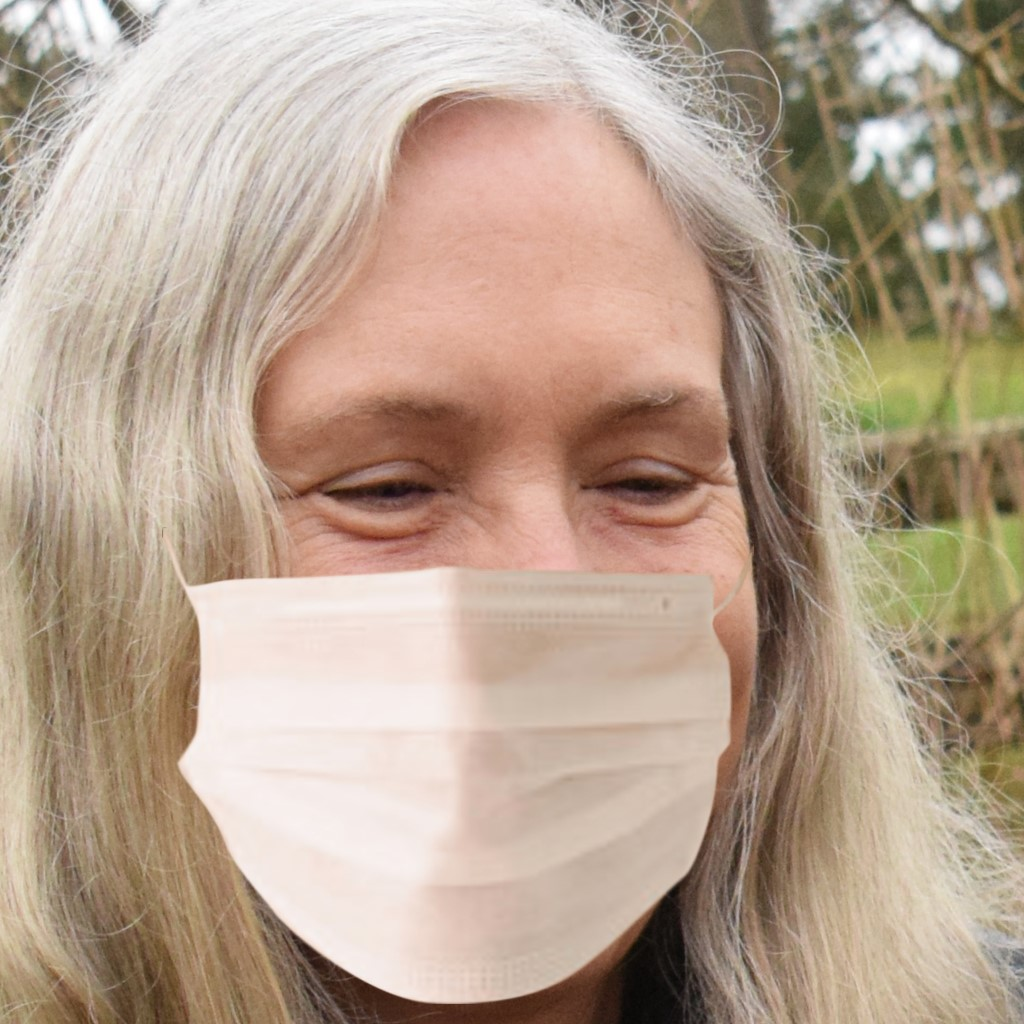con_mascara: (110, 43, 763, 1001)
